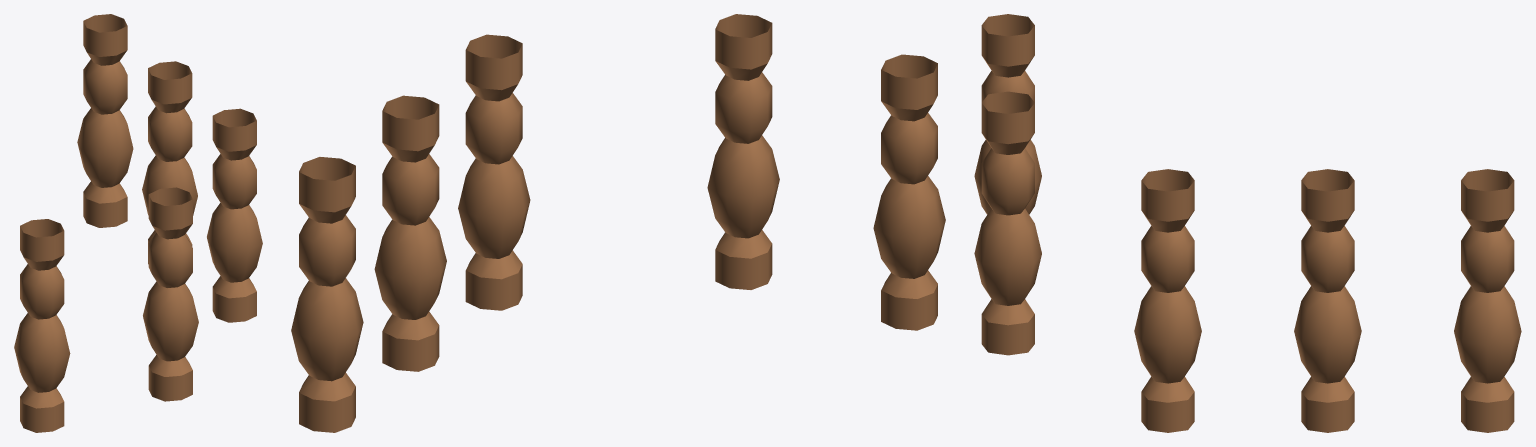
Rendered from Balcony Missing.fbx.
The picture shows the model from 3 angles, left to right: view 1: azimuth 30°, elevation 25°; view 2: azimuth 150°, elevation 25°; view 3: azimuth 270°, elevation 25°; orthographic projection. The views are drawn at different scales.
Visible parts, largest first — view 1: Balcony Missing; view 2: Balcony Missing; view 3: Balcony Missing.
Part boxes in pixels (box(x1,y1,x2,y2)): Balcony Missing: box(14, 14, 262, 432); Balcony Missing: box(291, 14, 945, 432); Balcony Missing: box(974, 14, 1521, 432).
Size of the model in its own units: 102 by 128 by 62.5.
